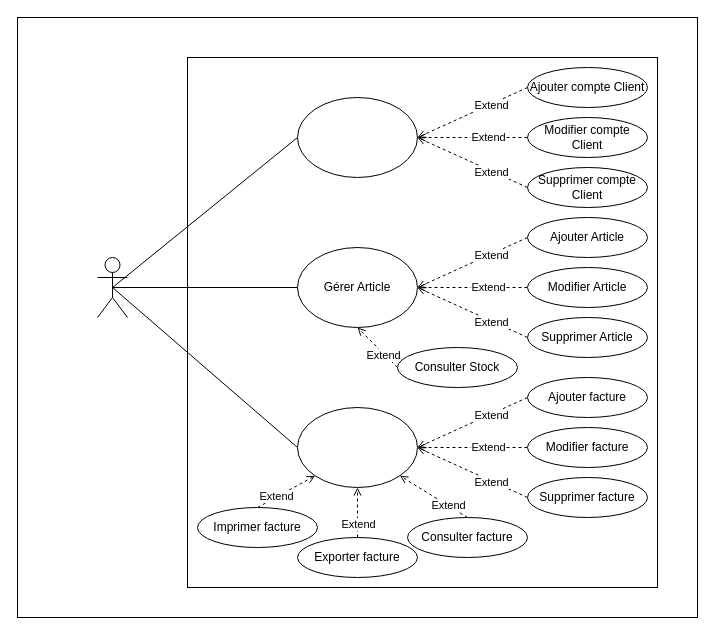
Image size: 715x635. Some labels were removed from this diagram. Here are the shapes that lost their labels. From the top down, the centre of each, then its label:
At (357,137): "Gérer compte Client".
At (112,287): "Administrateur sociéte".
At (357,447): "Gérer Facture".
